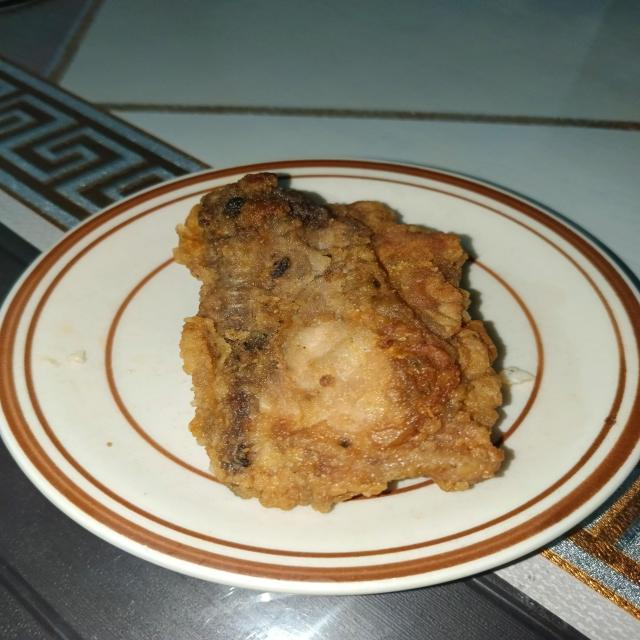Chicken -Fried Chicken-: (128, 144, 559, 538)
